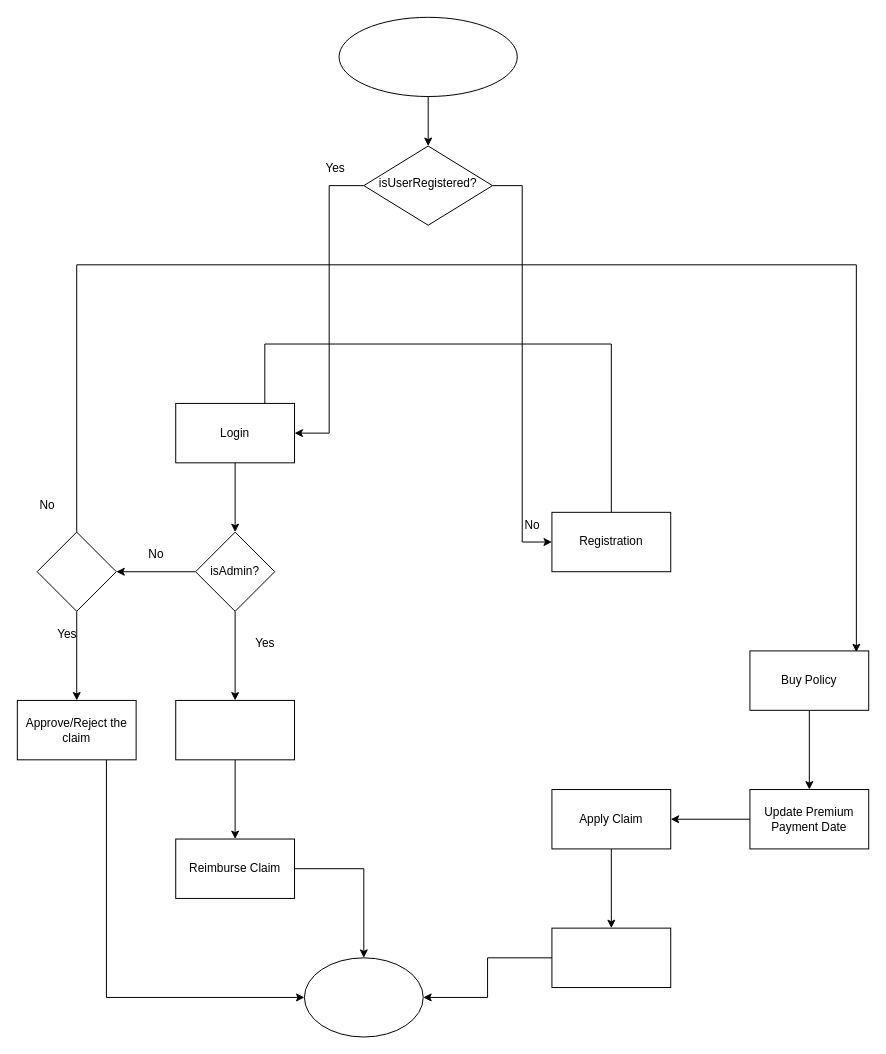
The diagram is 886 pixels wide and 1054 high, and some of its shapes have lost their labels. Here are the shapes that lost their labels. From the top down, the centre of each, then its label:
At (x=427, y=56): "Start".
At (x=76, y=571): "isTPA?".
At (x=235, y=729): "Create Policy".
At (x=611, y=957): "Check Claim Status".
At (x=363, y=997): "Stop".
